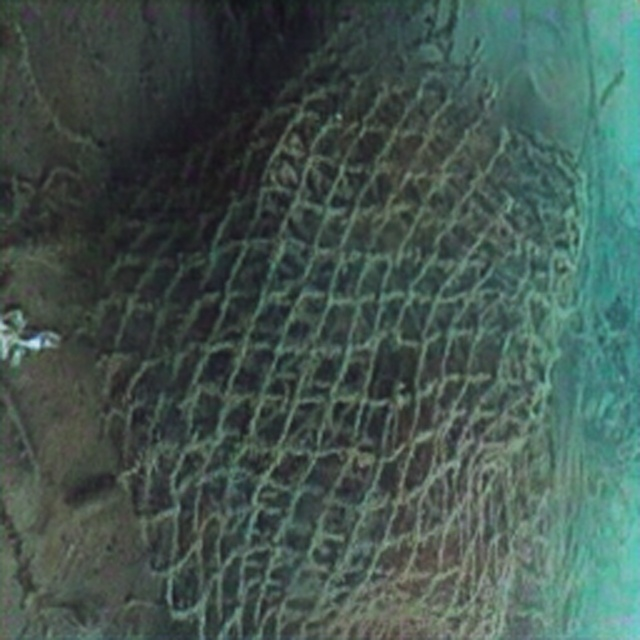mine: (91, 0, 588, 639)
